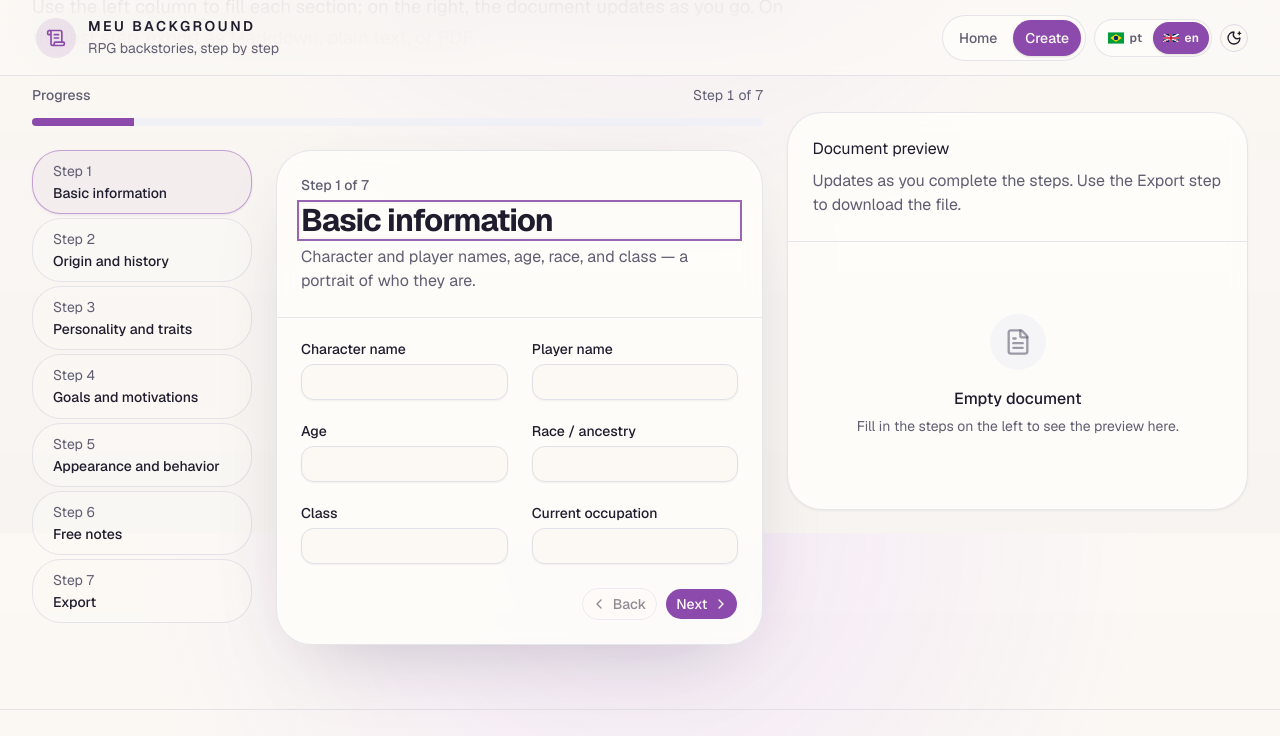
Test: Character form wizard (en) › should show English chrome and validation on the basic step
The width and height of the screenshot is (1280, 736).
(page scrolled)
Check: the form is shown, box [32, 85, 764, 646]
Check: the heading "Basic information" is shown, box [301, 204, 738, 237]
Click the button with test id "wizard-next".
click(702, 604)  # box [665, 588, 738, 620]
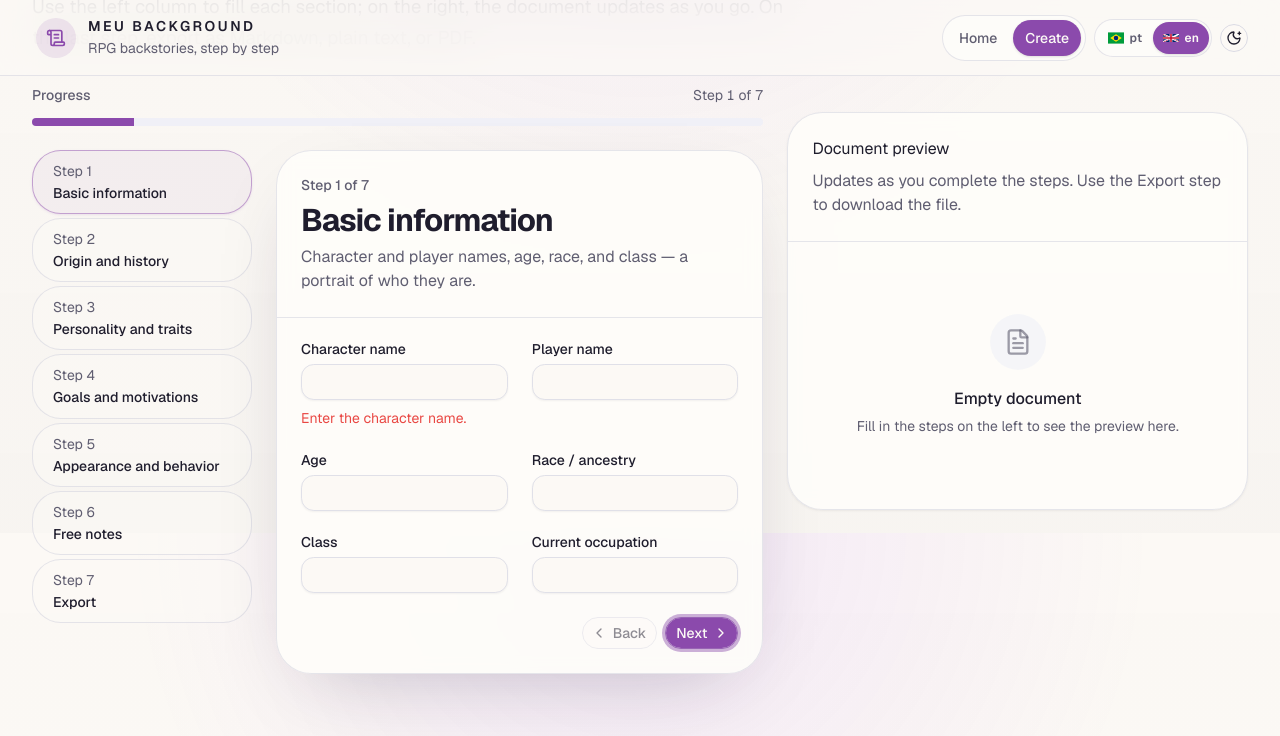
Check: the text "Enter the character name" is shown, box [301, 409, 466, 427]
